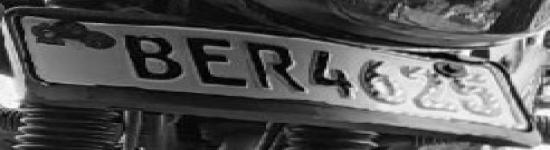2: (402, 62, 454, 114)
4: (311, 48, 355, 100)
5: (457, 71, 505, 119)
6: (354, 56, 406, 105)
B: (119, 35, 182, 81)
E: (186, 35, 246, 92)
R: (242, 41, 308, 93)
